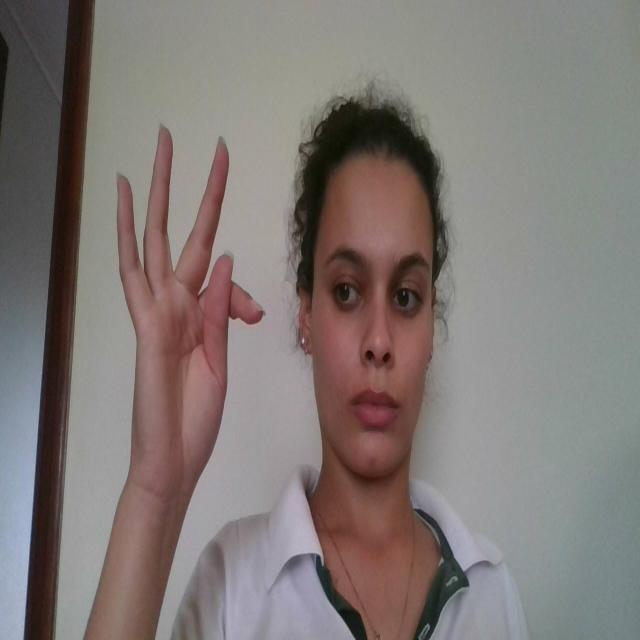T: (109, 110, 267, 475)
